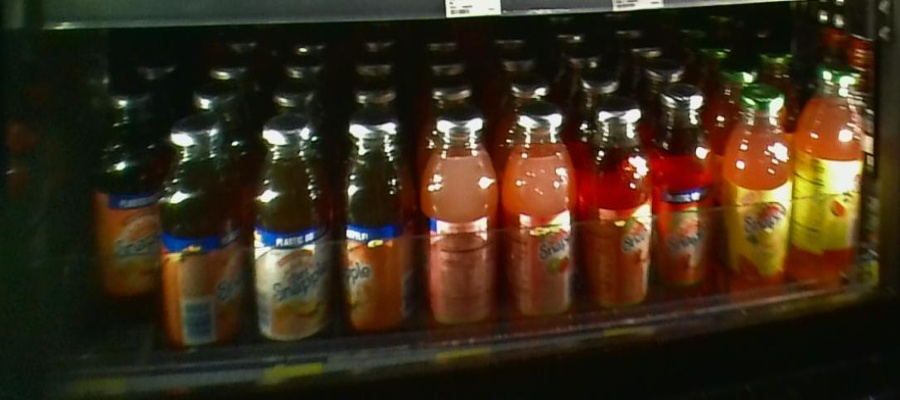bottle: (332, 106, 420, 349), (161, 118, 249, 357), (250, 110, 331, 354), (423, 103, 499, 353), (501, 103, 582, 335), (724, 73, 796, 308), (579, 94, 651, 326), (799, 57, 866, 292), (651, 80, 717, 309), (95, 77, 160, 297)
